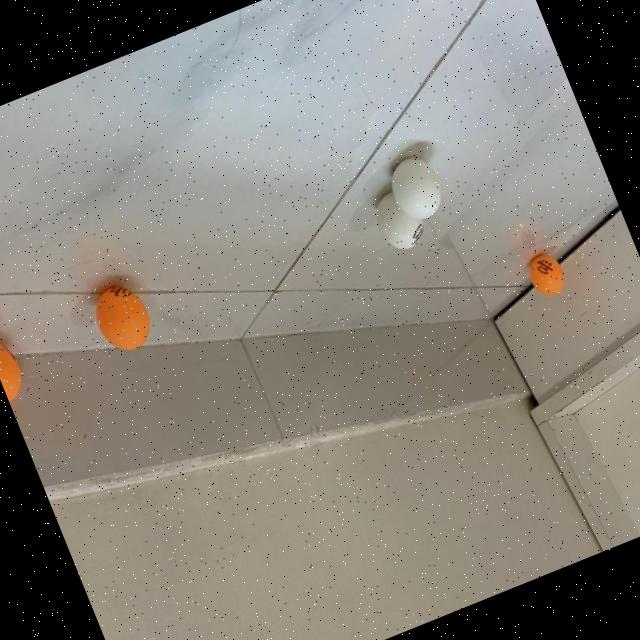ping-pong-ball: (85, 277, 158, 358), (381, 149, 448, 226), (366, 182, 432, 256), (522, 249, 569, 301), (0, 331, 30, 403)
